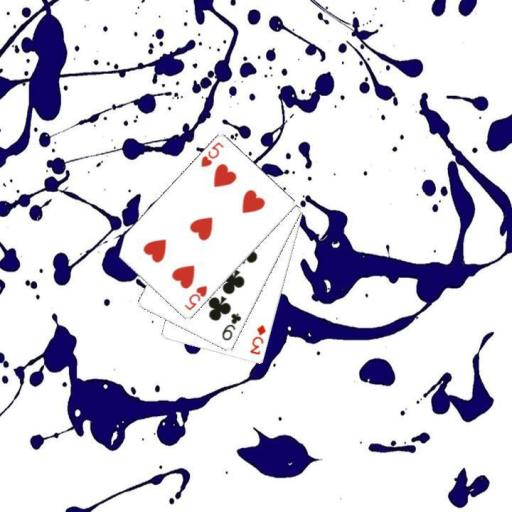card-corner: (198, 139, 225, 169), (218, 310, 242, 342), (182, 283, 208, 312), (247, 322, 267, 356)
